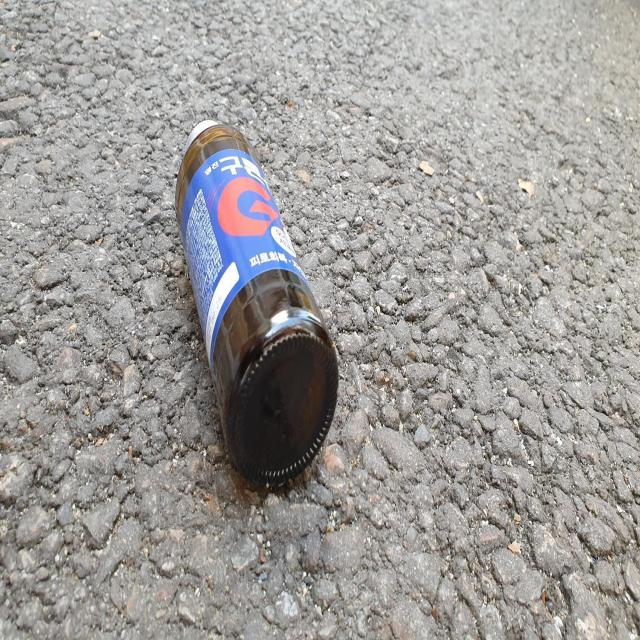glass: (175, 119, 338, 485)
